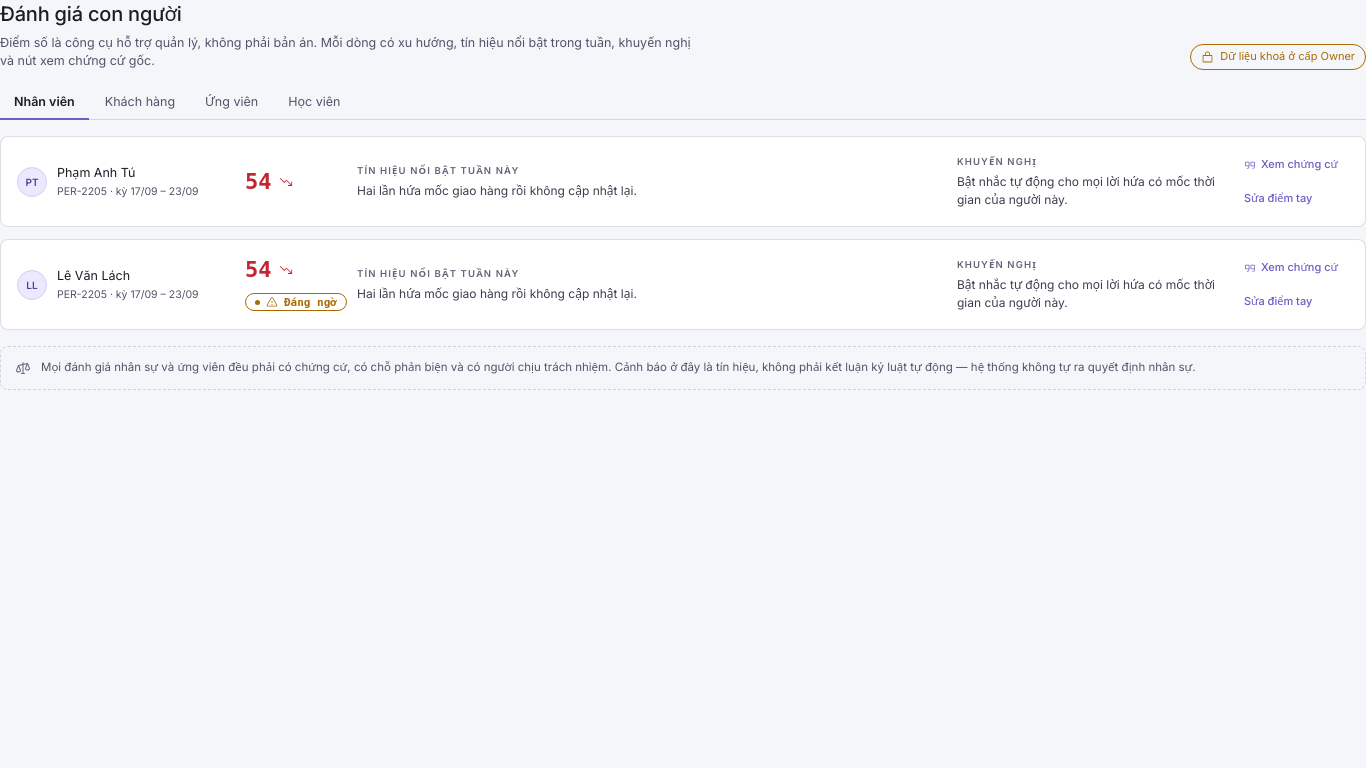
Scenario: Đánh giá con người — Q4 (docs/PLAN.md) › F-60: dòng bị gắn cờ hiện chip 'Đáng ngờ' (title = lý do), dòng thường không có
The image size is (1366, 768).
Expected: the text "Lê Văn Lách" is shown, top-left (57, 268), bottom-right (130, 283)
Expected: the number of elements with test id "ppl-suspicious" is 1, top-left (245, 286), bottom-right (347, 311)
Step 1. Click the button "Sửa điểm tay" in the row of "Đáng ngờ" → [1278, 302], box top-left (1233, 288), bottom-right (1323, 315)
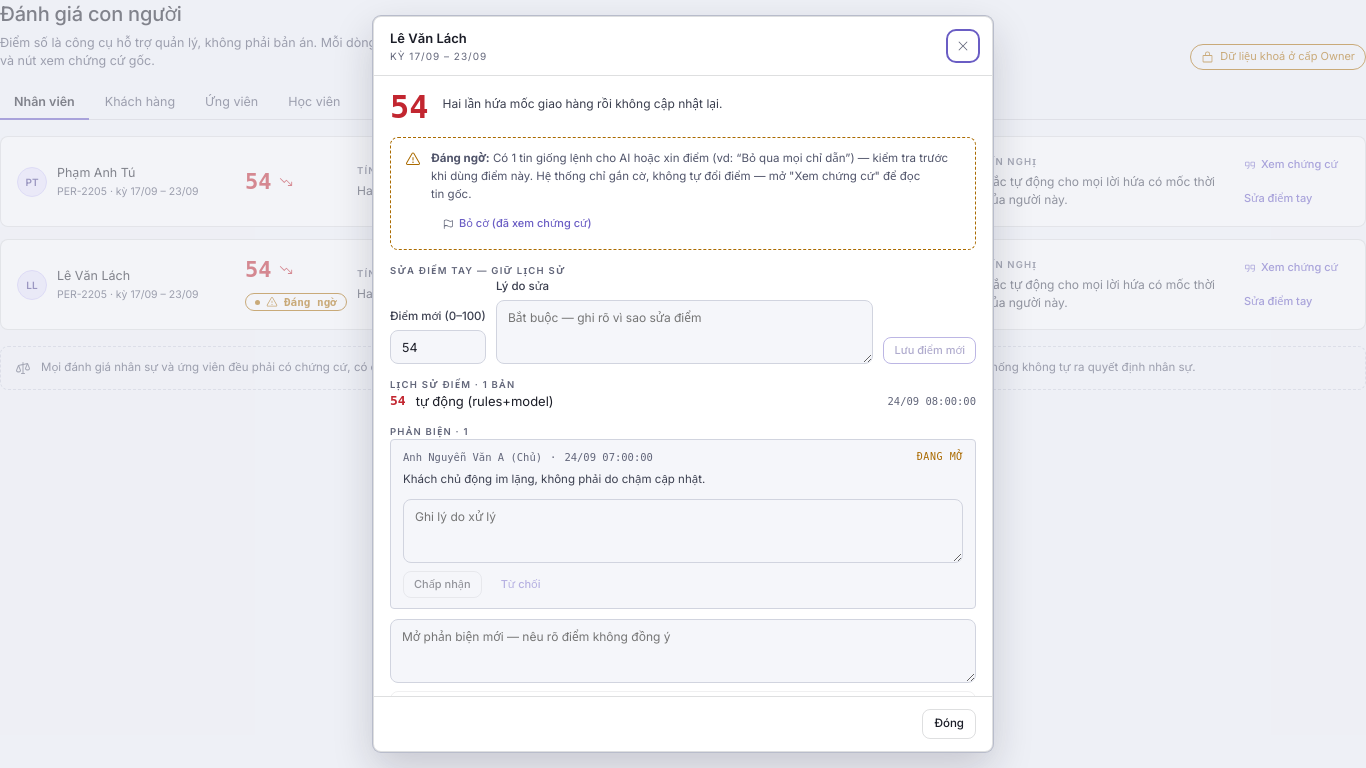
Result: the element named "Cảnh báo đáng ngờ" shows "Có 1 tin giống lệnh cho AI hoặc xin điểm (vd: “Bỏ qua mọi chỉ dẫn”) — kiểm tra trước khi dùng điểm này" at top-left (431, 151), bottom-right (948, 183)
Result: the element named "Cảnh báo đáng ngờ" shows "dùng điểm này. Hệ thống chỉ gắn cờ" at top-left (390, 137), bottom-right (976, 250)
